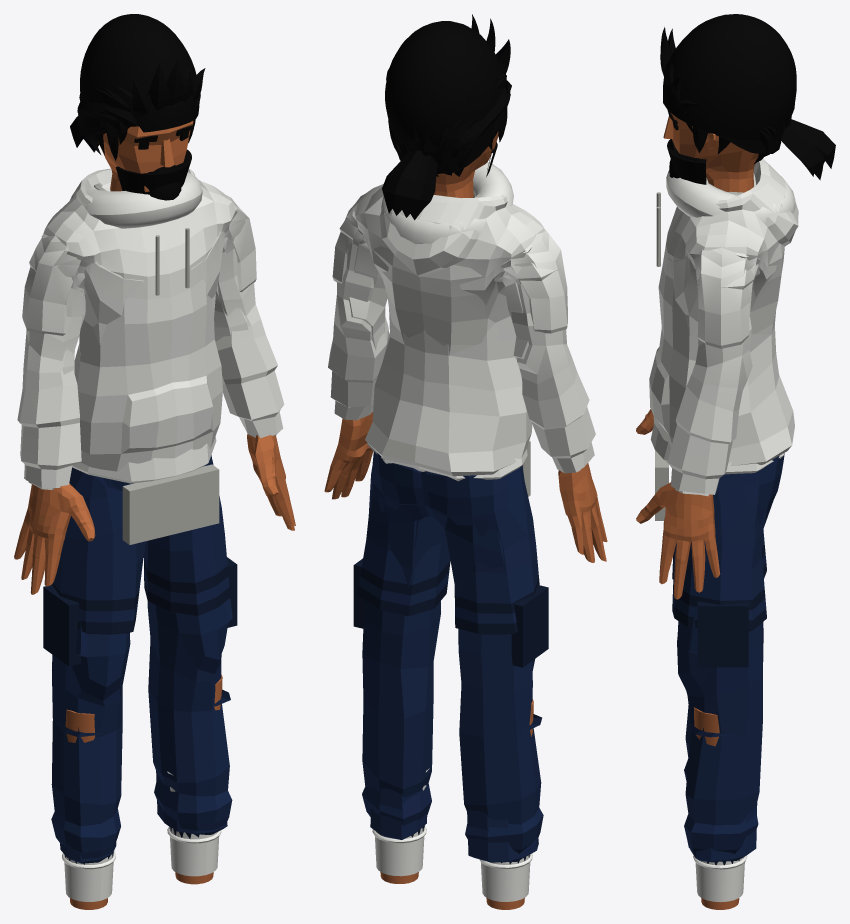
The model's file is avatar-masculino.glb.
The picture shows the model from 3 angles, left to right: view 1: azimuth 30°, elevation 25°; view 2: azimuth 150°, elevation 25°; view 3: azimuth 270°, elevation 25°; orthographic projection.
Parts seen in each view (by area): view 1: Top_hoodie, Bottom_cargo, Bottom_pantaloneta, Top_oversize, Hair_largo, Top_camisa, Socks_altas, Head_Base, Hair_ondulado, Hair_corto, Bottom_mochos, Beard_completa (+3 smaller); view 2: Top_hoodie, Bottom_cargo, Bottom_pantaloneta, Top_oversize, Hair_largo, Hair_urbano, Top_camisa, Socks_altas, Bottom_jean, Hair_ondulado, Top_camiseta, Bottom_jogger (+3 smaller); view 3: Top_hoodie, Bottom_cargo, Hair_largo, Top_oversize, Bottom_pantaloneta, Head_Base, Hair_urbano, Top_camisa, Socks_altas, Hair_ondulado, Top_camiseta, Bottom_mochos (+3 smaller).
Boxes of the visible parts, x1=… form: Top_hoodie: x1=14, y1=168, x2=295, y2=585; Bottom_cargo: x1=43, y1=466, x2=237, y2=858; Bottom_pantaloneta: x1=51, y1=455, x2=230, y2=634; Top_oversize: x1=15, y1=186, x2=294, y2=594; Hair_largo: x1=80, y1=14, x2=199, y2=132; Top_camisa: x1=14, y1=183, x2=295, y2=594; Socks_altas: x1=64, y1=771, x2=219, y2=901; Head_Base: x1=98, y1=121, x2=194, y2=192; Hair_ondulado: x1=78, y1=59, x2=205, y2=155; Hair_corto: x1=77, y1=86, x2=200, y2=161; Bottom_mochos: x1=57, y1=674, x2=230, y2=905; Beard_completa: x1=115, y1=149, x2=191, y2=194; Top_hoodie: x1=325, y1=162, x2=604, y2=562; Bottom_cargo: x1=353, y1=500, x2=548, y2=853; Bottom_pantaloneta: x1=357, y1=451, x2=539, y2=634; Top_oversize: x1=327, y1=194, x2=606, y2=556; Hair_largo: x1=385, y1=21, x2=501, y2=147; Hair_urbano: x1=382, y1=72, x2=507, y2=220; Top_camisa: x1=324, y1=193, x2=607, y2=561; Socks_altas: x1=375, y1=768, x2=530, y2=901; Bottom_jean: x1=370, y1=493, x2=531, y2=862; Hair_ondulado: x1=389, y1=14, x2=510, y2=176; Top_camiseta: x1=325, y1=411, x2=606, y2=562; Bottom_jogger: x1=378, y1=498, x2=538, y2=864; Top_hoodie: x1=637, y1=159, x2=798, y2=592; Bottom_cargo: x1=677, y1=502, x2=772, y2=854; Hair_largo: x1=663, y1=14, x2=796, y2=140; Top_oversize: x1=636, y1=243, x2=784, y2=599; Bottom_pantaloneta: x1=672, y1=453, x2=784, y2=631; Head_Base: x1=663, y1=110, x2=758, y2=192; Hair_urbano: x1=693, y1=101, x2=835, y2=180; Top_camisa: x1=636, y1=191, x2=759, y2=598; Socks_altas: x1=695, y1=857, x2=744, y2=902; Hair_ondulado: x1=660, y1=27, x2=793, y2=163; Top_camiseta: x1=636, y1=181, x2=717, y2=599; Bottom_mochos: x1=689, y1=507, x2=766, y2=905.
Size of the model in its own units: 0.5631 by 1.77 by 0.372.
